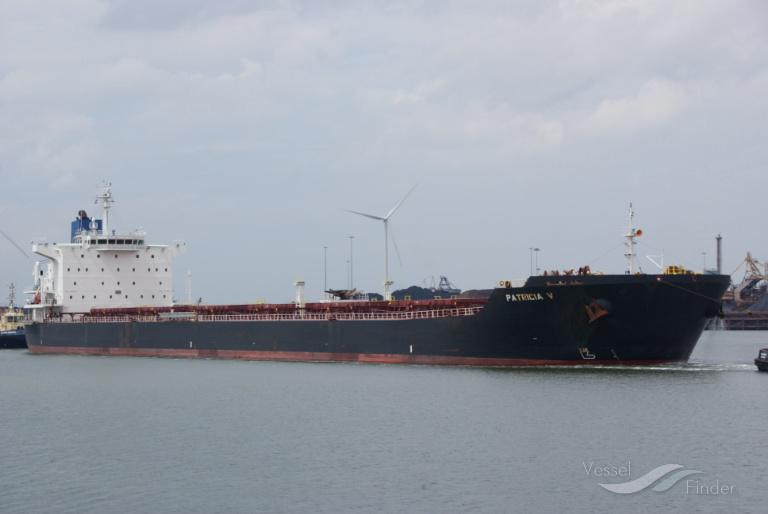OCR: (500, 287, 561, 305)
